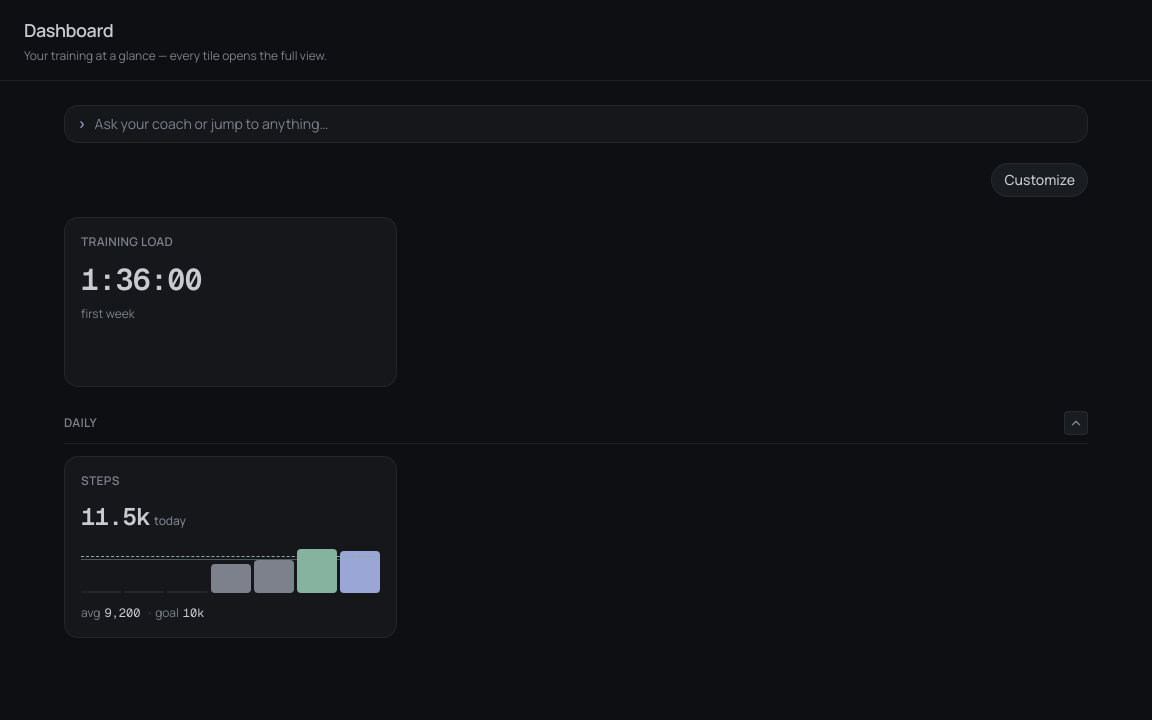
Test case: DashboardPage — view-mode collapse › writes immediately and hides the tiles, without entering edit mode
Check: the heading "Daily" is shown, box [64,415,97,431]
Step 1. Click the button named "Collapse Daily" → (1076, 423), box [1064,411,1088,435]
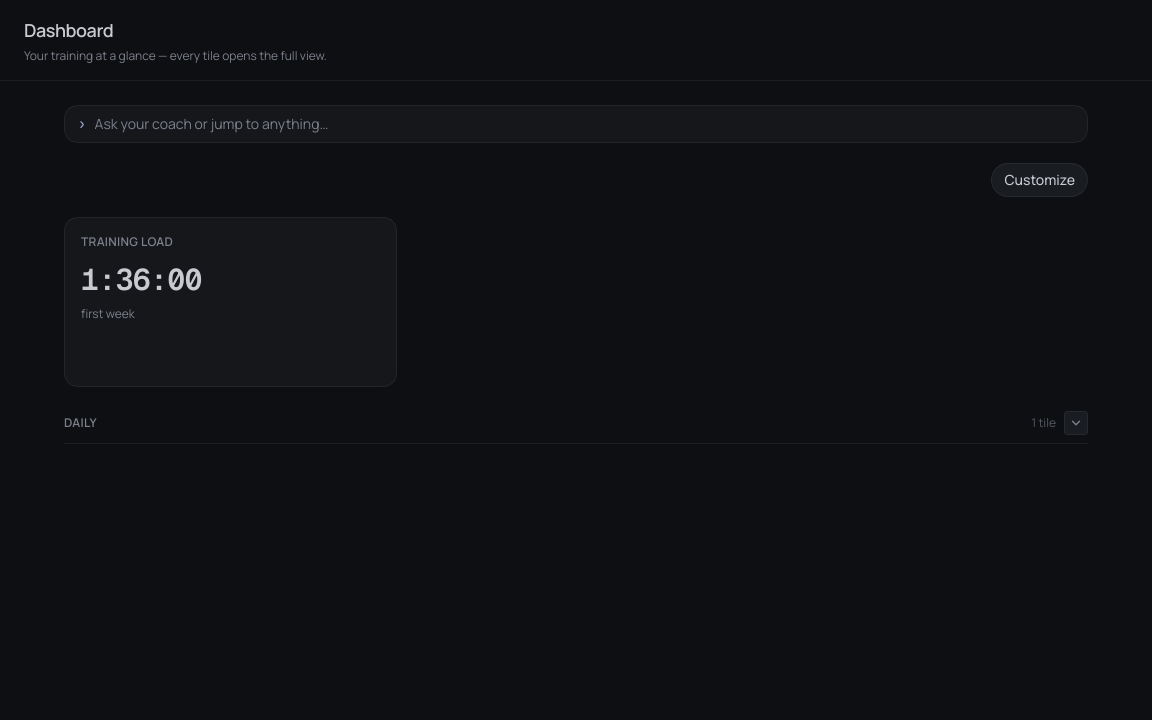
Check: the button "Customize" is shown, box [991,163,1088,197]
Check: the link "Steps" is gone
